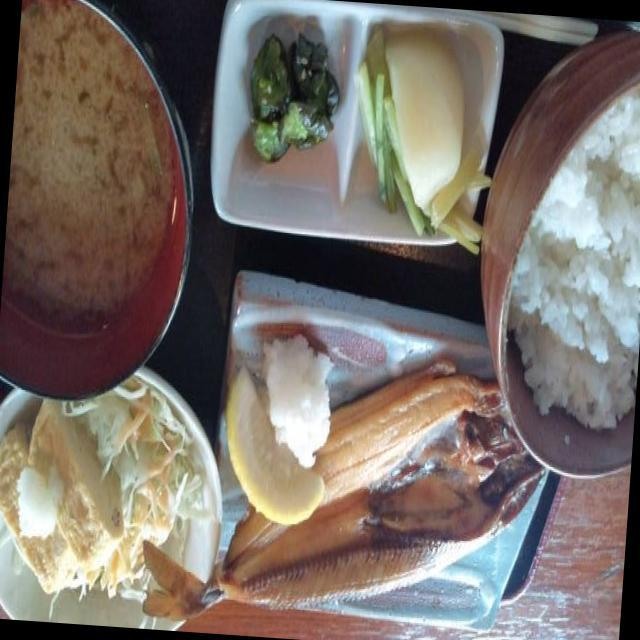Rice: (511, 74, 640, 445)
